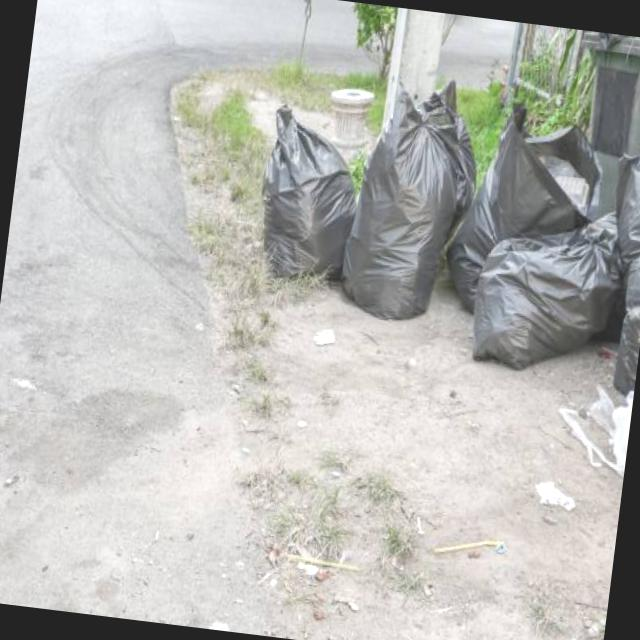garbage: (246, 32, 640, 394)
